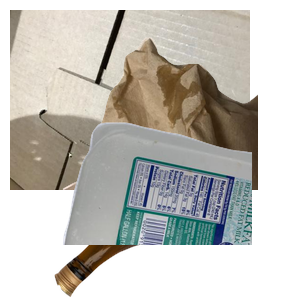cardboard: (10, 10, 250, 190)
glass: (52, 147, 292, 300)
plastic: (60, 120, 300, 300)
trash: (60, 35, 300, 215)
